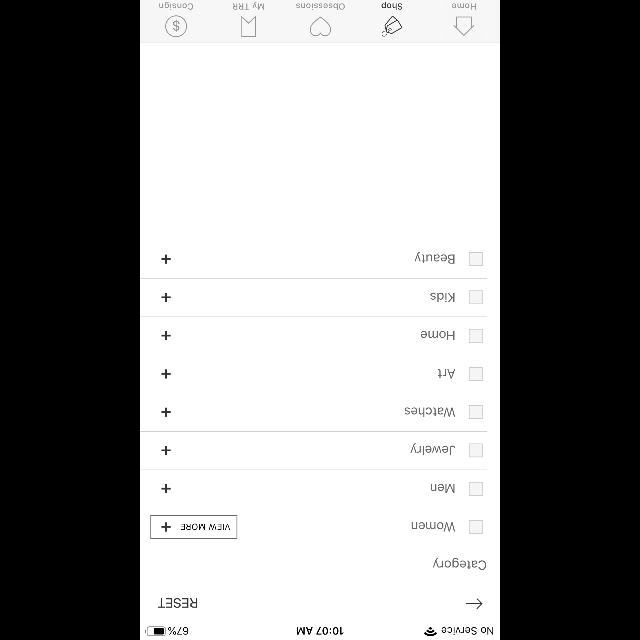checkbox: (469, 252, 483, 266), (469, 367, 483, 381), (469, 405, 483, 419), (469, 444, 483, 458), (468, 482, 482, 496), (468, 330, 482, 342), (470, 520, 482, 534), (470, 292, 482, 304)
icon: (166, 16, 187, 36), (310, 16, 330, 36), (382, 16, 402, 36), (454, 16, 474, 36), (242, 16, 256, 38), (466, 598, 482, 608), (162, 254, 170, 264), (162, 292, 170, 302), (162, 330, 170, 340), (162, 522, 170, 532), (162, 369, 170, 378), (162, 408, 170, 417), (162, 483, 170, 492), (162, 446, 170, 454)
text: (432, 558, 486, 570), (410, 443, 454, 455), (404, 407, 454, 417), (414, 252, 454, 264), (412, 522, 454, 532), (158, 598, 198, 608), (421, 330, 454, 340), (182, 524, 230, 530), (296, 4, 344, 10), (159, 2, 193, 10), (233, 2, 264, 10), (430, 293, 454, 303), (431, 483, 454, 492), (438, 368, 454, 378), (382, 2, 402, 10), (452, 4, 476, 10)
textbutton: (151, 515, 237, 539)
uppertaskbar: (140, 626, 500, 640)
